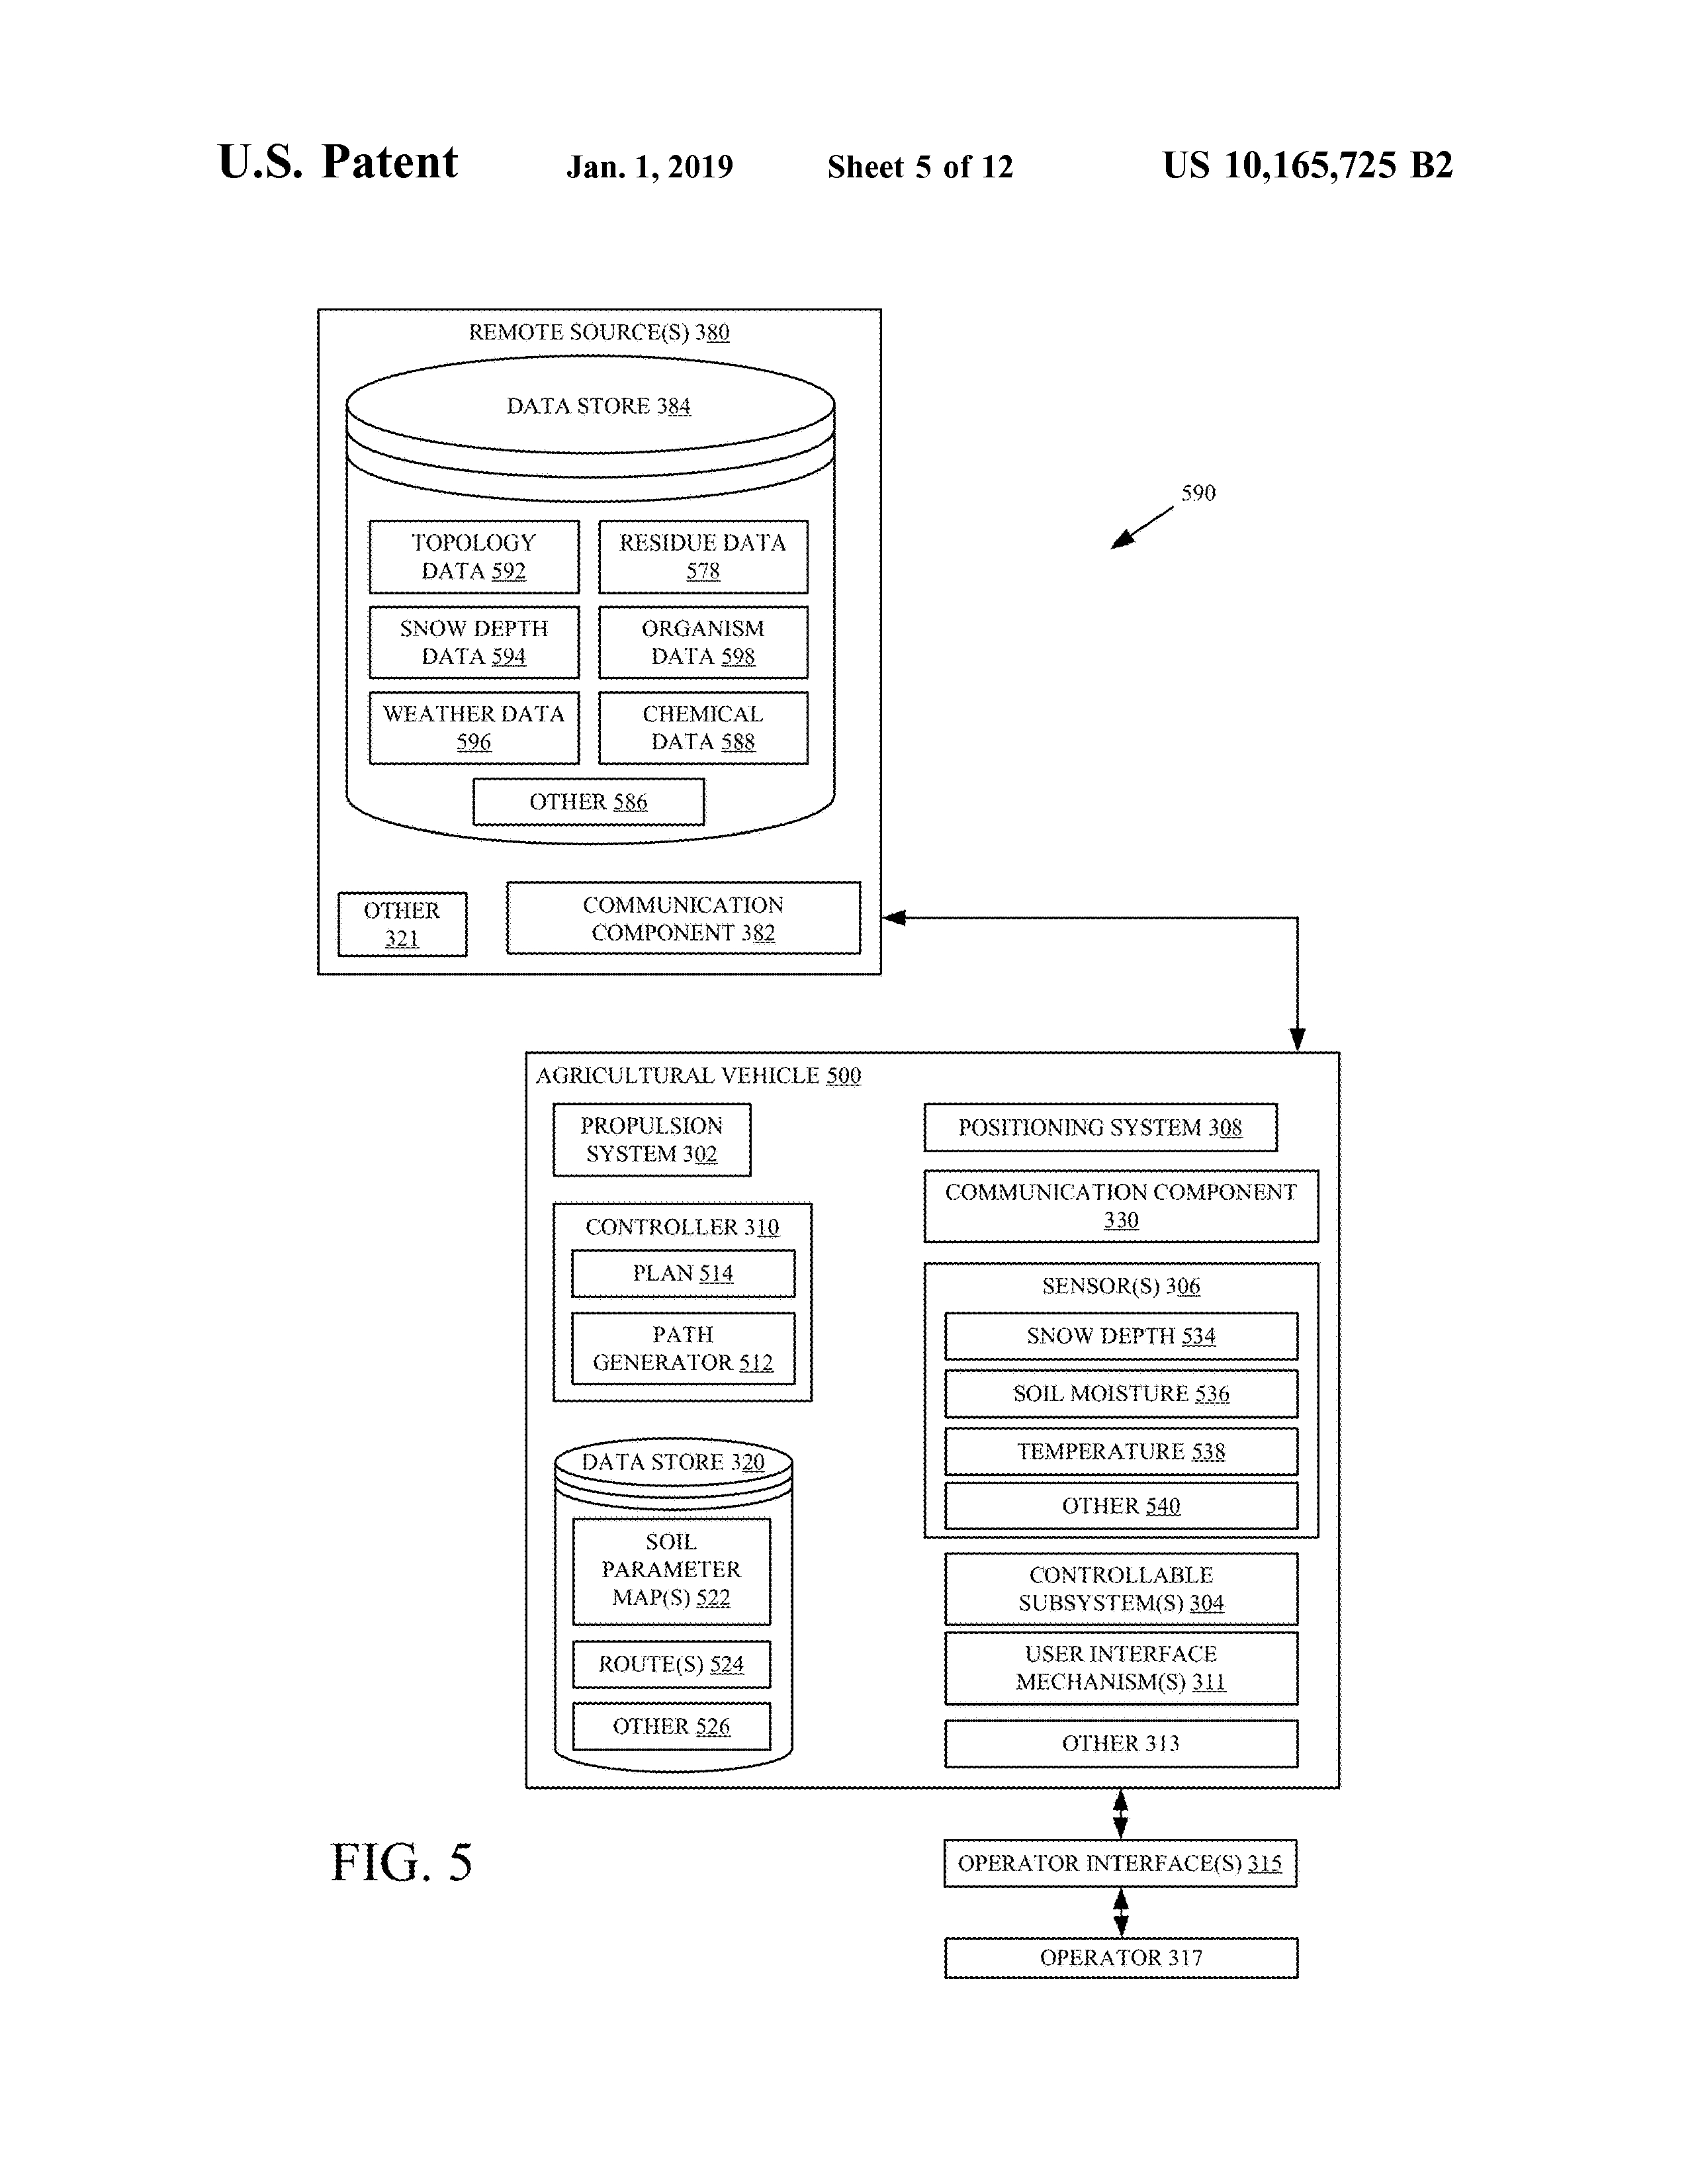patent image: (296, 250, 1366, 2011)
